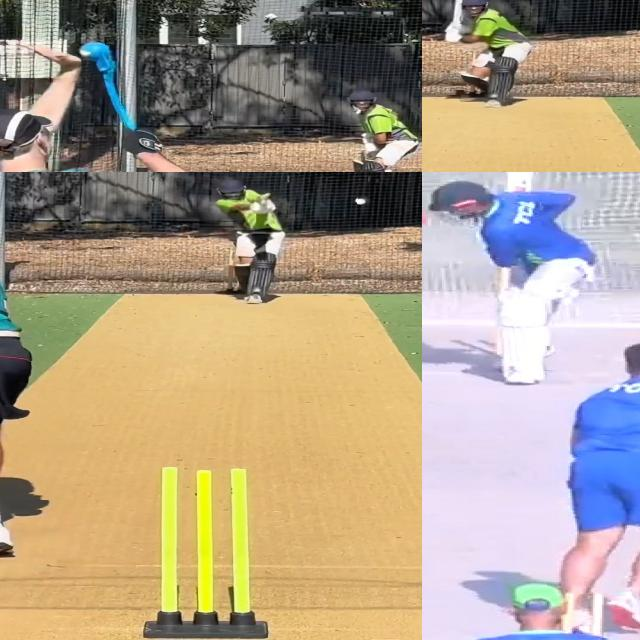Cricket ball: (351, 195, 370, 206), (422, 211, 428, 224)
Stumps: (138, 461, 271, 640)
